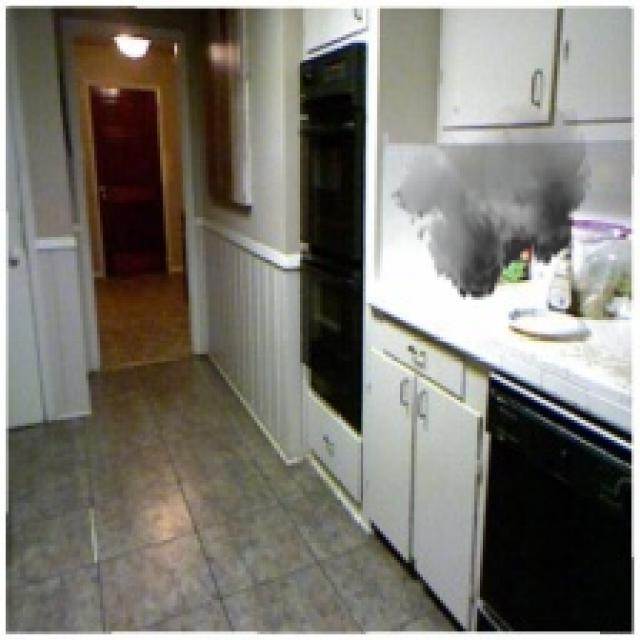smoke: (388, 94, 592, 309)
